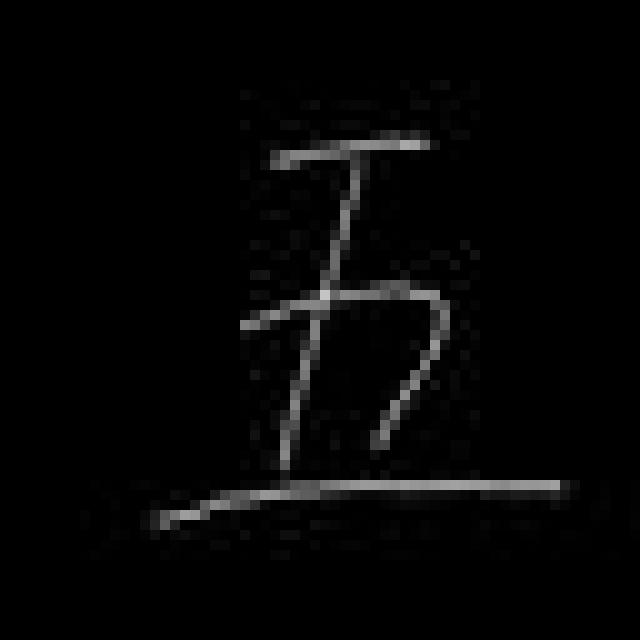5 -five-: (143, 125, 578, 539)
